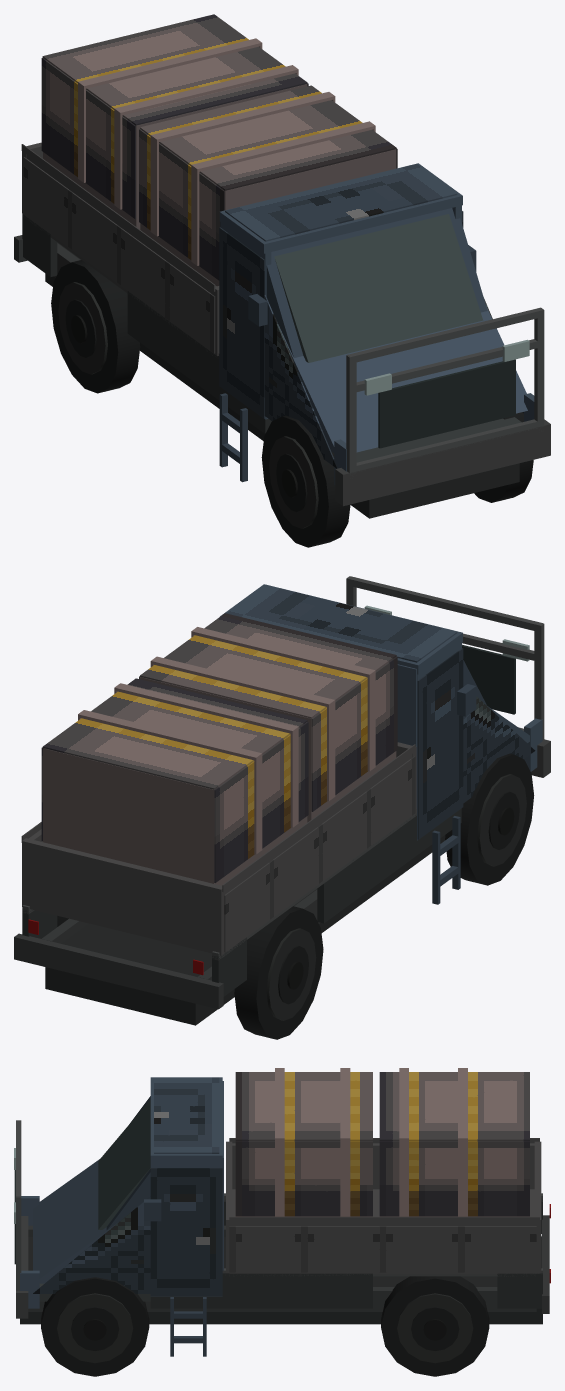
The model's file is CMU3DRMCPropVehicleLoaderTruckBlueFilled.glb.
3 renders of one model, top to bottom at view 1: azimuth 30°, elevation 25°; view 2: azimuth 150°, elevation 25°; view 3: azimuth 270°, elevation 25°, orthographic. The views are drawn at different scales.
Visible parts, largest first — view 1: sloped windshield, original load roof 1, original load roof 0, original cargo panel -1, raked hood, original cab roof hatch, front guard grille, original load side 1 -1, front bumper, original cab door -1, original load side 0 -1, tire 2 -1 (+30 smaller); view 2: strapped cargo core 1, rear tailgate, original load roof 1, original load roof 0, original cargo panel -1, central ladder chassis, original load side 1 -1, original cab roof hatch, original cab door -1, original load side 0 -1, rear bumper, tire 2 -1 (+31 smaller); view 3: original cargo panel 1, original load side 1 1, original cab door 1, original load side 0 1, original load roof 1, original load roof 0, wheel gap skirt 1 1, raked hood, original cab roof hatch, tire 2 1, original sloped hood side 1, central ladder chassis (+34 smaller).
Boxes of the visible parts, x1=… form: sloped windshield: x1=274, y1=214, x2=483, y2=362; original load roof 1: x1=42, y1=14, x2=307, y2=125; original load roof 0: x1=140, y1=85, x2=396, y2=190; original cargo panel -1: x1=23, y1=157, x2=215, y2=353; raked hood: x1=275, y1=306, x2=527, y2=453; original cab roof hatch: x1=225, y1=164, x2=457, y2=241; front guard grille: x1=378, y1=359, x2=515, y2=448; original load side 1 -1: x1=41, y1=57, x2=135, y2=218; front bumper: x1=335, y1=419, x2=550, y2=506; original cab door -1: x1=219, y1=227, x2=264, y2=418; original load side 0 -1: x1=139, y1=129, x2=224, y2=280; tire 2 -1: x1=51, y1=260, x2=140, y2=393; strapped cargo core 1: x1=43, y1=722, x2=307, y2=885; rear tailgate: x1=22, y1=838, x2=225, y2=955; original load roof 1: x1=42, y1=678, x2=307, y2=789; original load roof 0: x1=140, y1=613, x2=396, y2=718; original cargo panel -1: x1=224, y1=756, x2=415, y2=952; central ladder chassis: x1=45, y1=835, x2=445, y2=1025; original load side 1 -1: x1=214, y1=722, x2=308, y2=882; original cab roof hatch: x1=227, y1=585, x2=457, y2=662; original cab door -1: x1=417, y1=648, x2=463, y2=839; original load side 0 -1: x1=311, y1=656, x2=397, y2=811; rear bumper: x1=14, y1=933, x2=223, y2=1009; tire 2 -1: x1=234, y1=906, x2=323, y2=1039; original cargo panel 1: x1=229, y1=1226, x2=536, y2=1272; original load side 1 1: x1=379, y1=1141, x2=529, y2=1216; original cab door 1: x1=150, y1=1168, x2=222, y2=1296; original load side 0 1: x1=235, y1=1141, x2=372, y2=1216; original load roof 1: x1=379, y1=1072, x2=529, y2=1140; original load roof 0: x1=235, y1=1072, x2=372, y2=1140; wheel gap skirt 1 1: x1=150, y1=1273, x2=372, y2=1308; raked hood: x1=33, y1=1159, x2=118, y2=1283; original cab roof hatch: x1=154, y1=1077, x2=219, y2=1153; tire 2 1: x1=381, y1=1276, x2=489, y2=1376; original sloped hood side 1: x1=33, y1=1196, x2=150, y2=1293; central ladder chassis: x1=20, y1=1236, x2=542, y2=1324.
Bounding box in the file's own units: 0.972 × 1.23 × 2.57.
Materials: 32 (8 with a texture image).
